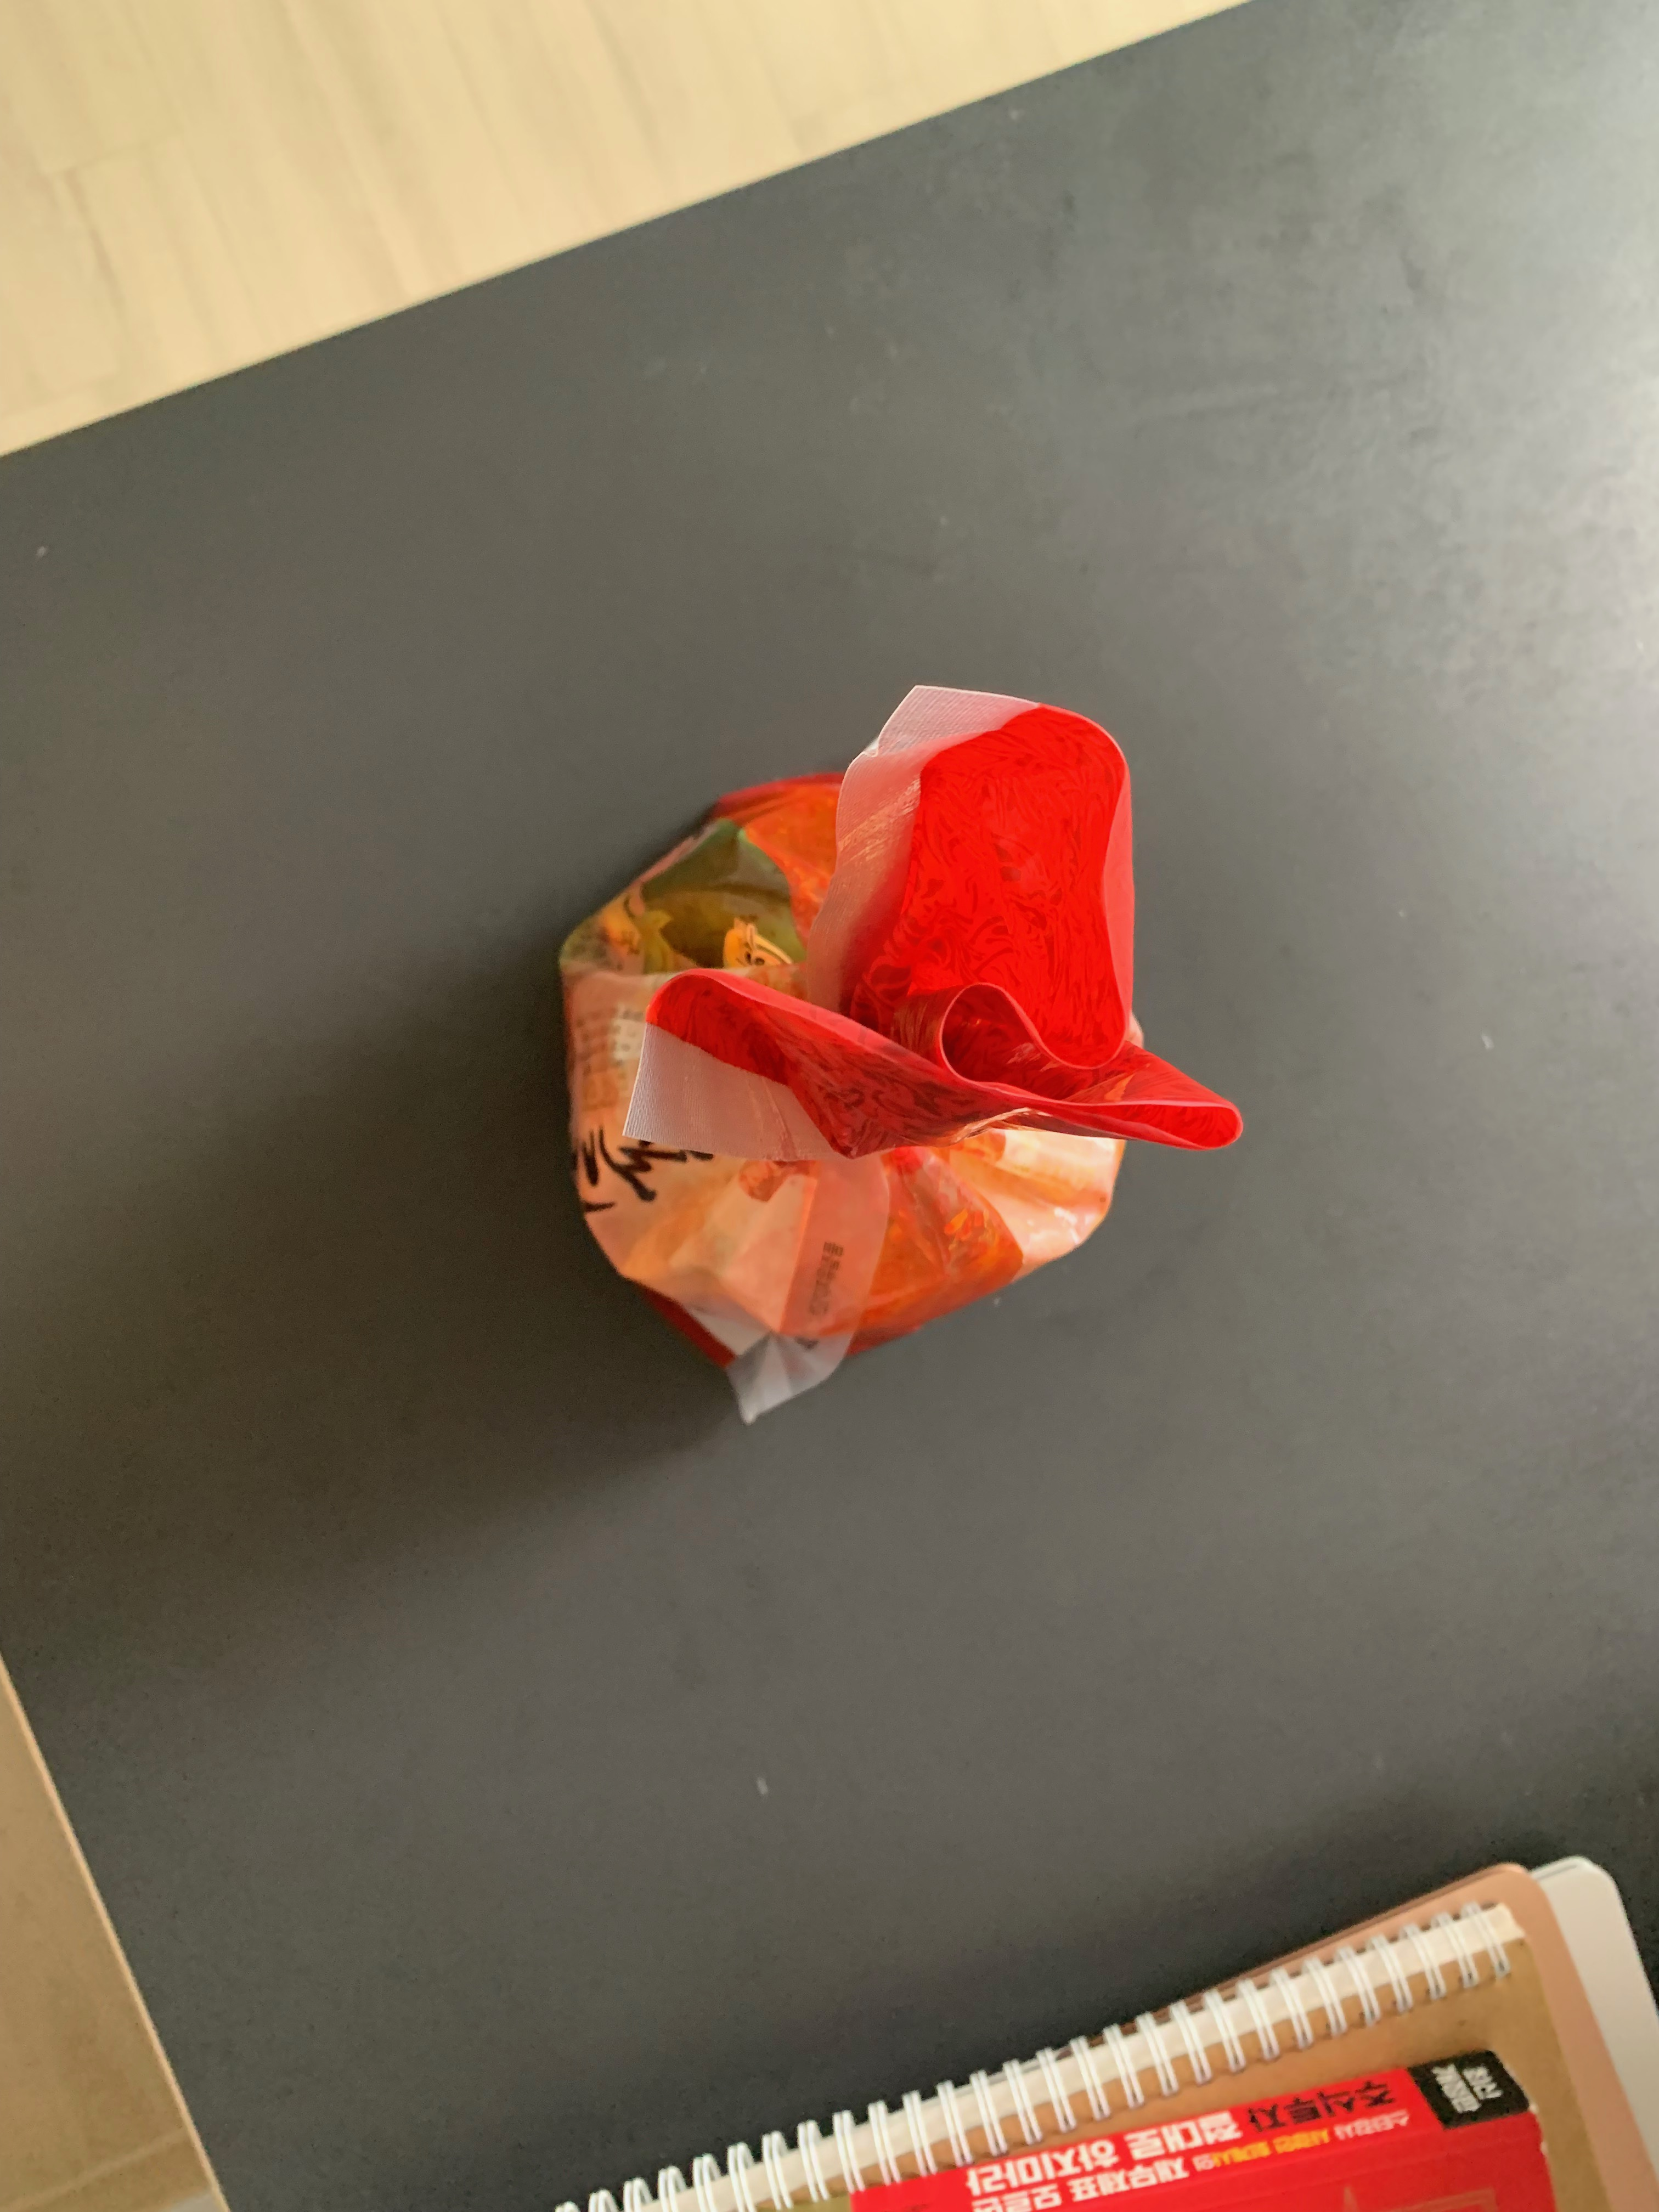kimchi: (556, 705, 1246, 1359)
